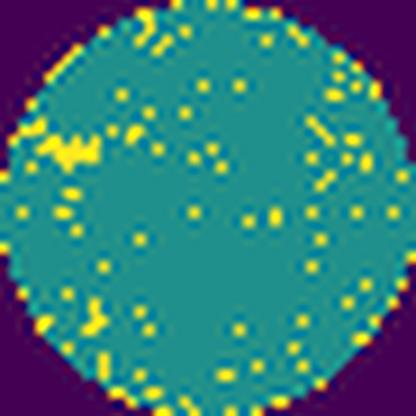Loc: (43, 128, 109, 171)
